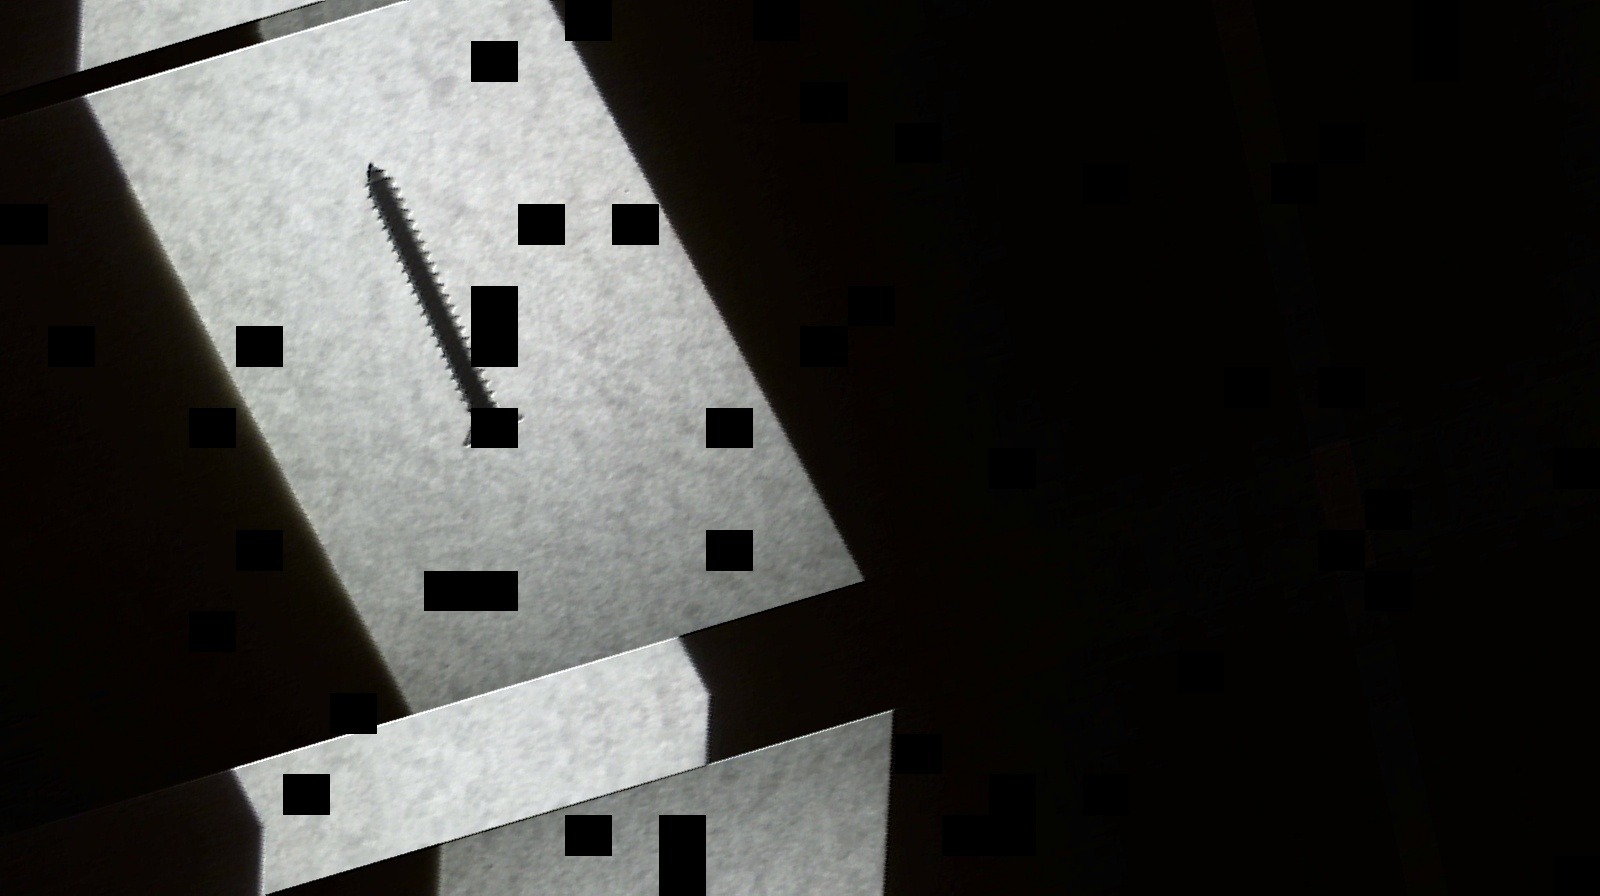S002: (347, 129, 535, 477)
